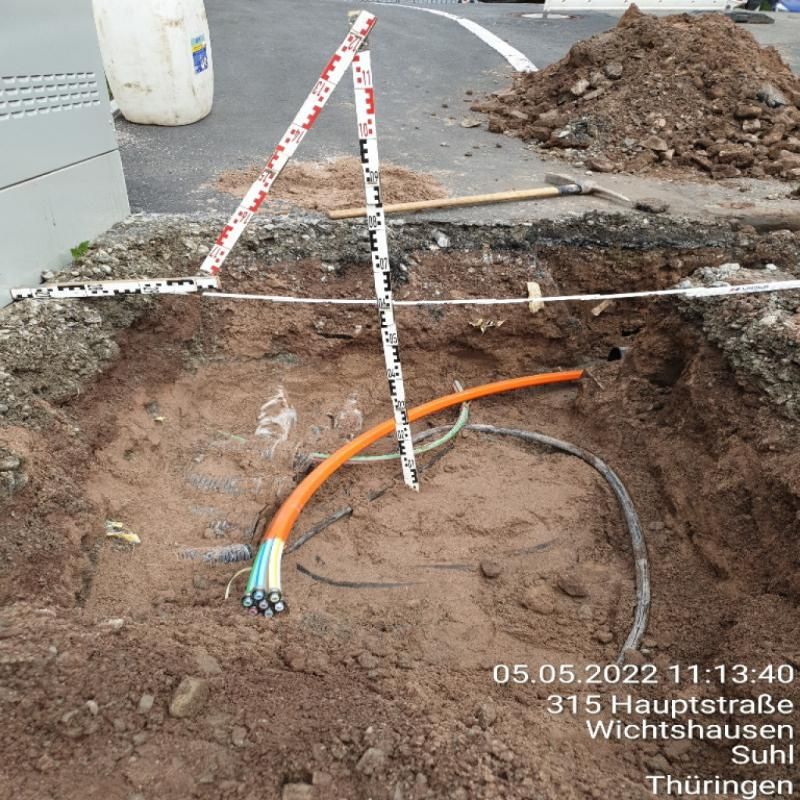Orang-Speednetrohrchen: (240, 368, 583, 618)
